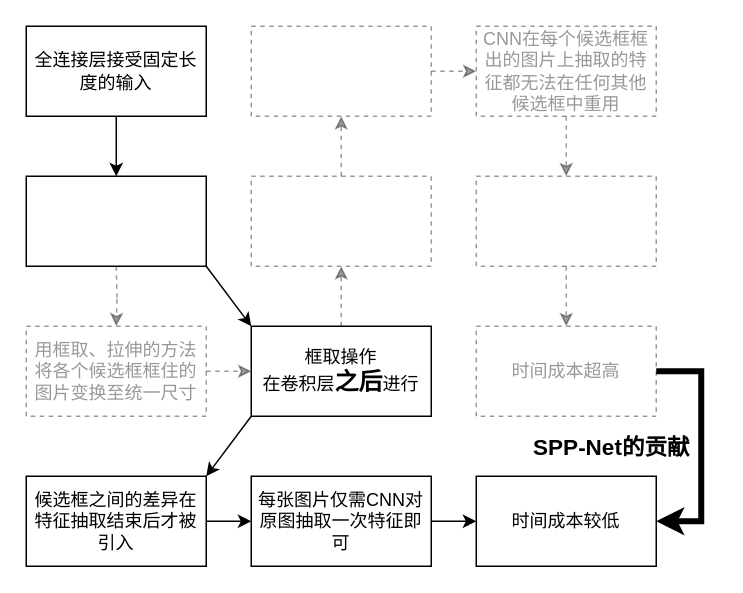
Image size: 743x593. Some labels were removed from this diagram. The centre of each missing label's shape, as x and y in pixels:
CNN的输入图像尺寸必须固定: [115,220]
候选框之间的差异在图片进入CNN之前就被引入: [340,220]
对每个候选框框出的图片都需要重新经CNN抽取特征: [565,220]
每个候选框都产生一张独一无二的图片: [340,70]
